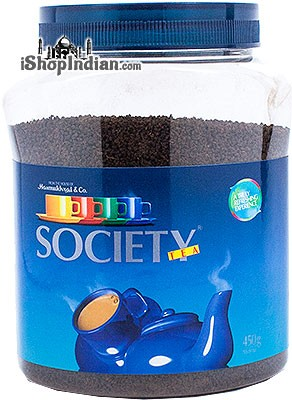society: (4, 154, 292, 369)
